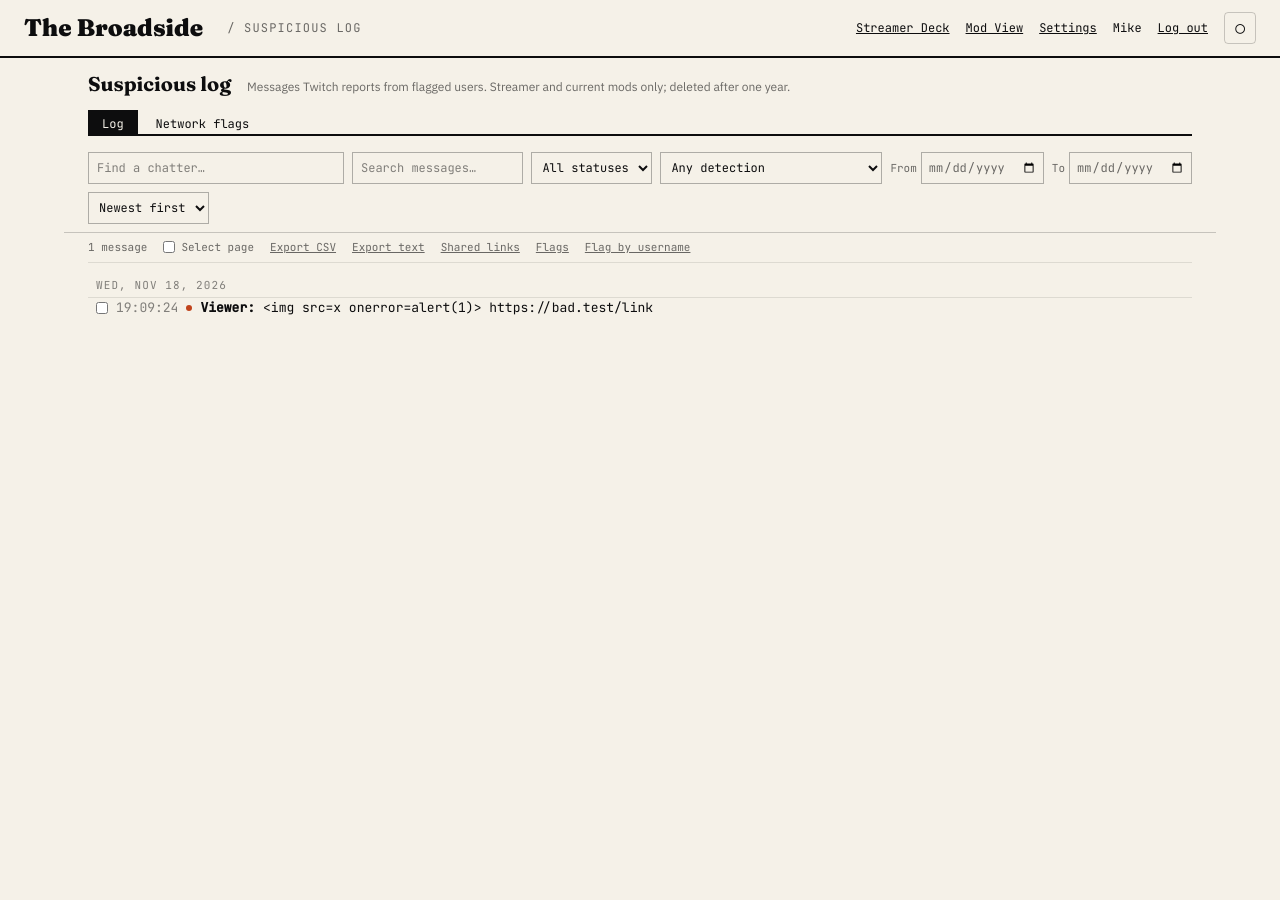
Test: SuspiciousLogView sharing › shows a dead link as dead, with nothing to copy
The image size is (1280, 900).
expect the text "<img src=x onerror=alert(1)> https://bad.test/link" is shown: met, box [263,298,653,316]
What coordinates should you click on to do the following:
click the button "Shared links"
I would click on:
 (480, 247)
Its box is [441,239,520,256].
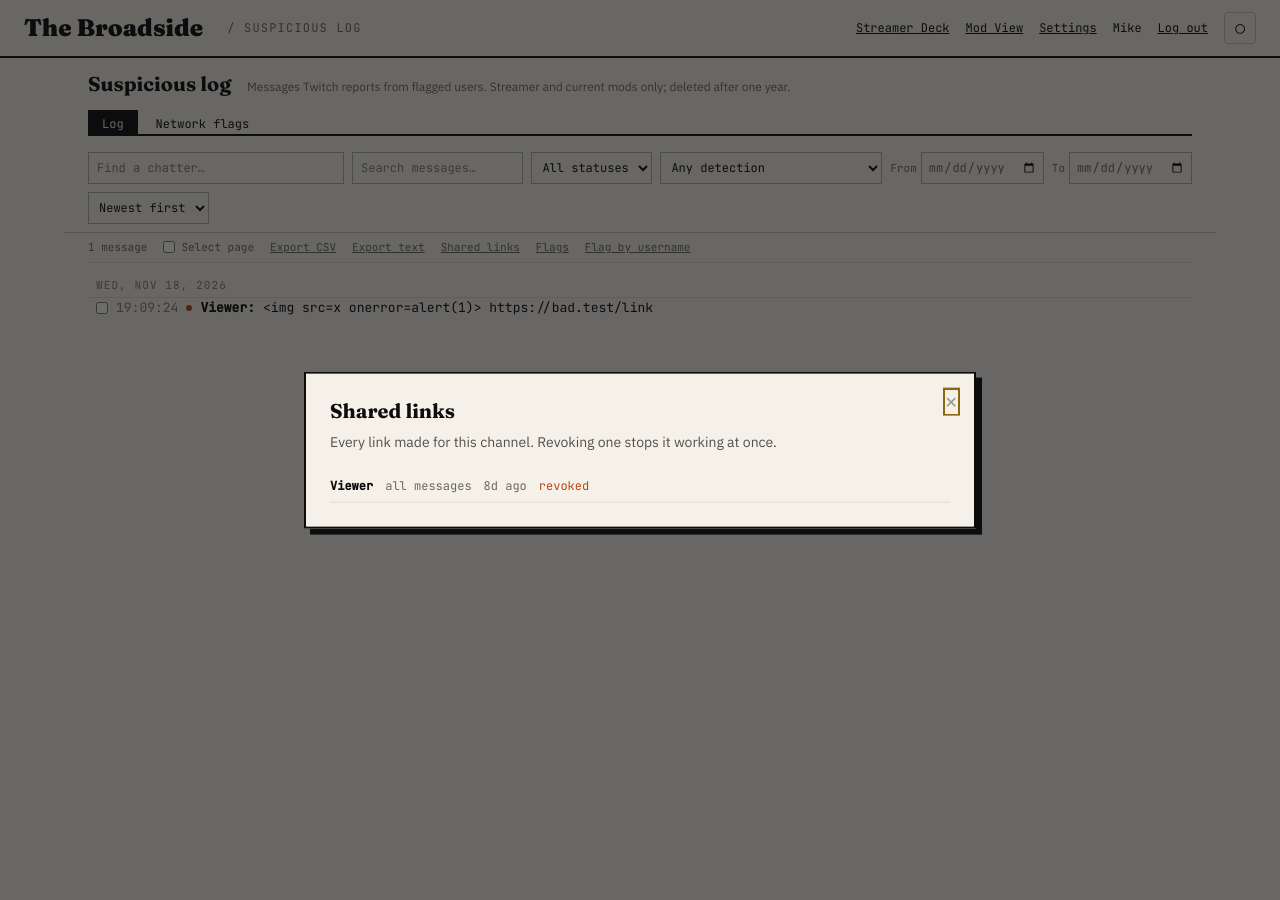
expect the list named "Shared links" shows "revoked": met, box [539,477,589,493]
